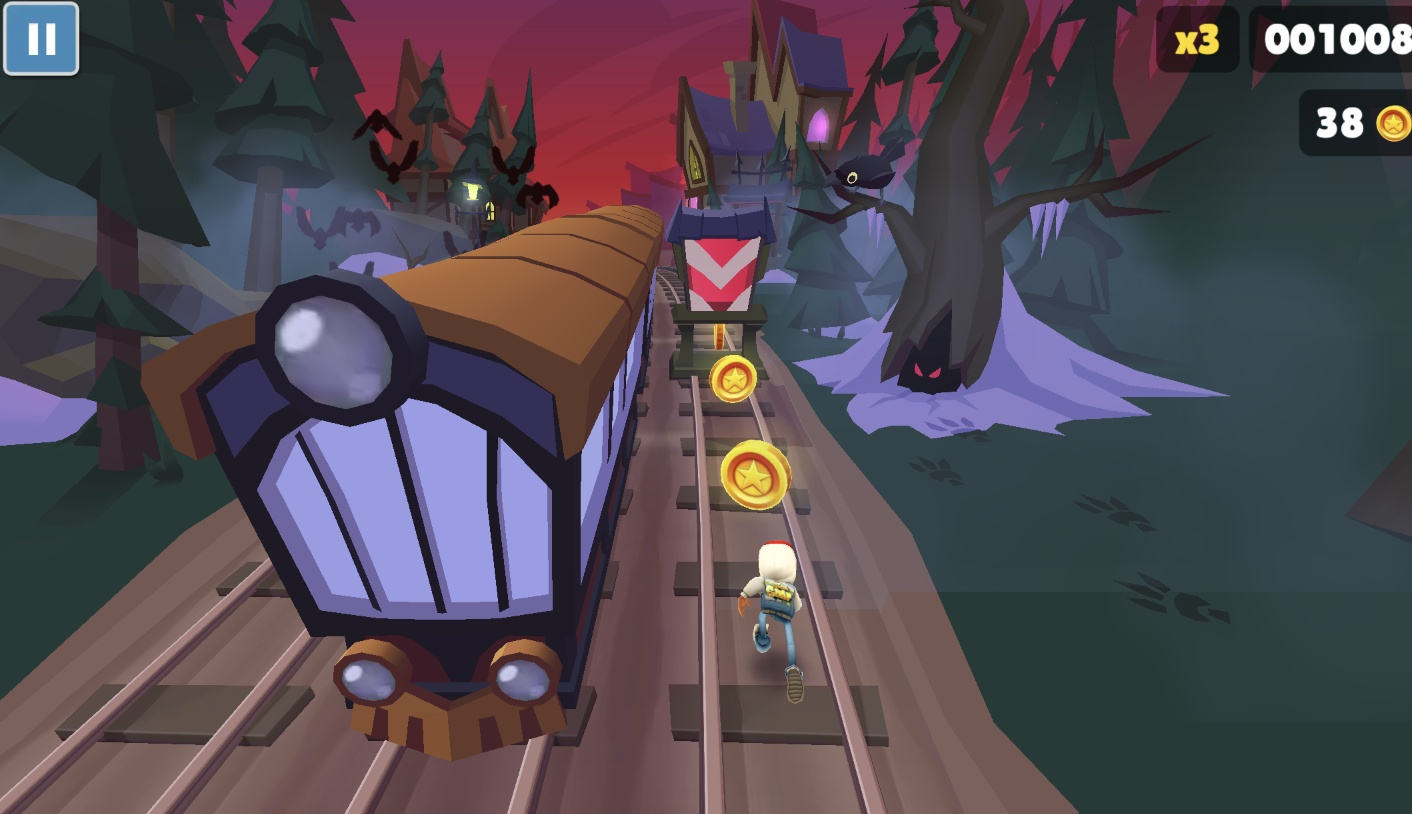overhead_barrier: (664, 204, 777, 383)
train: (144, 204, 664, 726)
